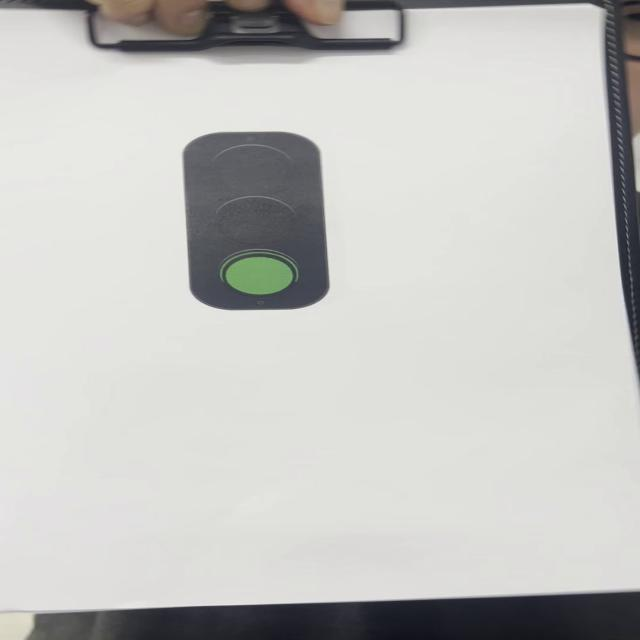green: (186, 131, 331, 311)
